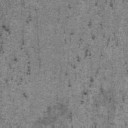oxide scale of temperature system: (29, 2, 114, 128), (0, 14, 32, 98)
